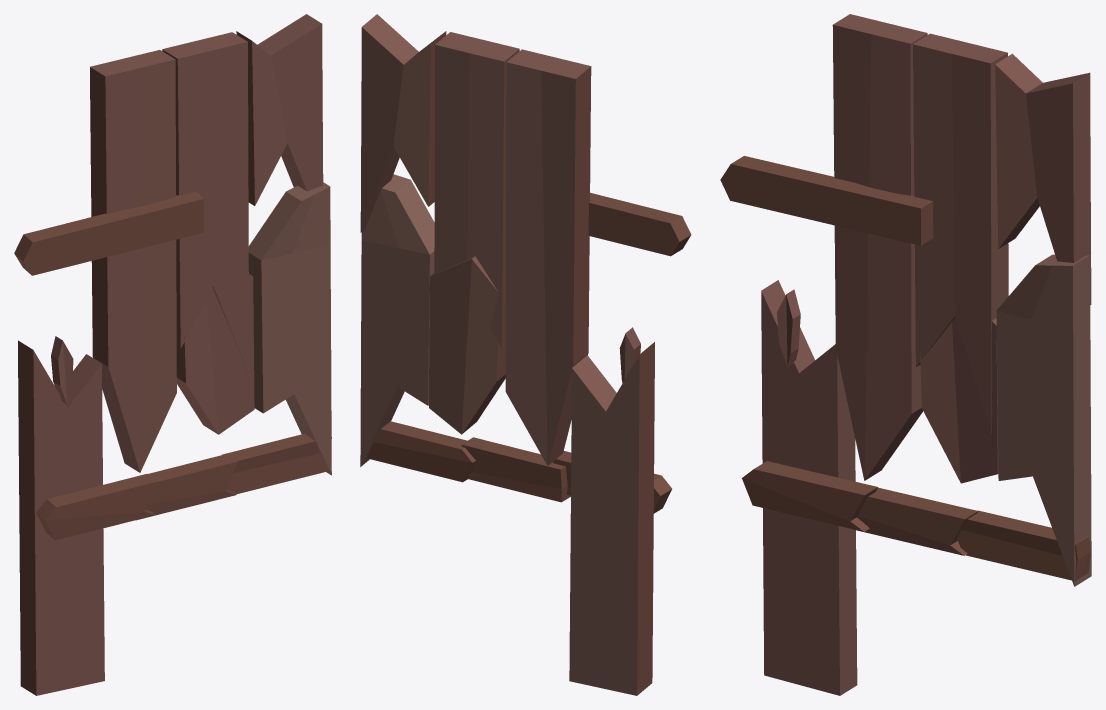
File: pedacos-porta-teste.glb
3 renders of one model, left to right at view 1: azimuth 30°, elevation 25°; view 2: azimuth 150°, elevation 25°; view 3: azimuth 330°, elevation 25°, orthographic. The views are drawn at different scales.
Parts seen in each view (by area): view 1: lasca-porta-5, lasca-porta-2, lasca-porta-4, lasca-porta-10, lasca-porta-3, lasca-porta-9, lasca-porta-11, lasca-porta-7, lasca-porta-8, lasca-porta-6, lasca-porta-1; view 2: lasca-porta-5, lasca-porta-2, lasca-porta-4, lasca-porta-10, lasca-porta-3, lasca-porta-11, lasca-porta-9, lasca-porta-6, lasca-porta-8, lasca-porta-7, lasca-porta-1; view 3: lasca-porta-5, lasca-porta-2, lasca-porta-4, lasca-porta-10, lasca-porta-3, lasca-porta-9, lasca-porta-11, lasca-porta-7, lasca-porta-8, lasca-porta-6, lasca-porta-1.
Part boxes in pixels (x1=…): lasca-porta-5: x1=90, y1=50, x2=176, y2=472; lasca-porta-2: x1=18, y1=340, x2=104, y2=695; lasca-porta-4: x1=162, y1=32, x2=249, y2=374; lasca-porta-10: x1=248, y1=182, x2=331, y2=475; lasca-porta-3: x1=236, y1=14, x2=323, y2=205; lasca-porta-9: x1=14, y1=191, x2=204, y2=275; lasca-porta-11: x1=176, y1=274, x2=254, y2=434; lasca-porta-7: x1=36, y1=474, x2=156, y2=540; lasca-porta-8: x1=222, y1=433, x2=331, y2=494; lasca-porta-6: x1=136, y1=453, x2=237, y2=520; lasca-porta-1: x1=51, y1=336, x2=73, y2=404; lasca-porta-5: x1=505, y1=49, x2=591, y2=465; lasca-porta-2: x1=569, y1=342, x2=654, y2=695; lasca-porta-4: x1=434, y1=32, x2=519, y2=347; lasca-porta-10: x1=360, y1=174, x2=434, y2=466; lasca-porta-3: x1=360, y1=14, x2=446, y2=232; lasca-porta-11: x1=429, y1=256, x2=505, y2=434; lasca-porta-9: x1=588, y1=192, x2=691, y2=256; lasca-porta-6: x1=461, y1=437, x2=570, y2=502; lasca-porta-8: x1=367, y1=421, x2=475, y2=482; lasca-porta-7: x1=553, y1=451, x2=671, y2=513; lasca-porta-1: x1=619, y1=327, x2=640, y2=383; lasca-porta-5: x1=832, y1=14, x2=927, y2=480; lasca-porta-2: x1=761, y1=280, x2=857, y2=695; lasca-porta-4: x1=913, y1=33, x2=1008, y2=433; lasca-porta-10: x1=996, y1=254, x2=1091, y2=586; lasca-porta-3: x1=995, y1=53, x2=1091, y2=304; lasca-porta-9: x1=720, y1=156, x2=933, y2=245; lasca-porta-11: x1=920, y1=317, x2=998, y2=483; lasca-porta-7: x1=742, y1=461, x2=877, y2=531; lasca-porta-8: x1=957, y1=510, x2=1091, y2=580; lasca-porta-6: x1=853, y1=487, x2=978, y2=555; lasca-porta-1: x1=777, y1=289, x2=800, y2=366.
Size of the model in its own units: 1.62 by 2.98 by 0.2806.
